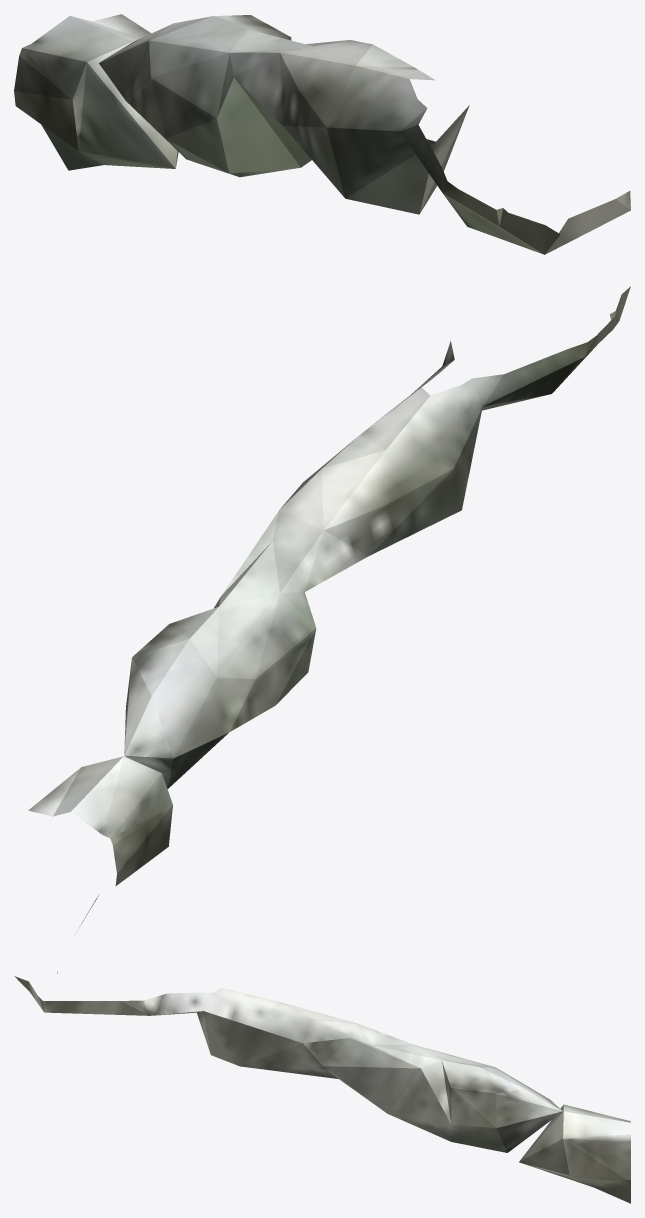
The picture shows the model from 3 angles, top to bottom: view 1: azimuth 30°, elevation 25°; view 2: azimuth 150°, elevation 25°; view 3: azimuth 270°, elevation 25°; orthographic projection. The views are drawn at different scales.
Bounding box in the file's own units: 0.1626 × 0.3097 × 0.8486.
Materials: 1 (1 with a texture image).
